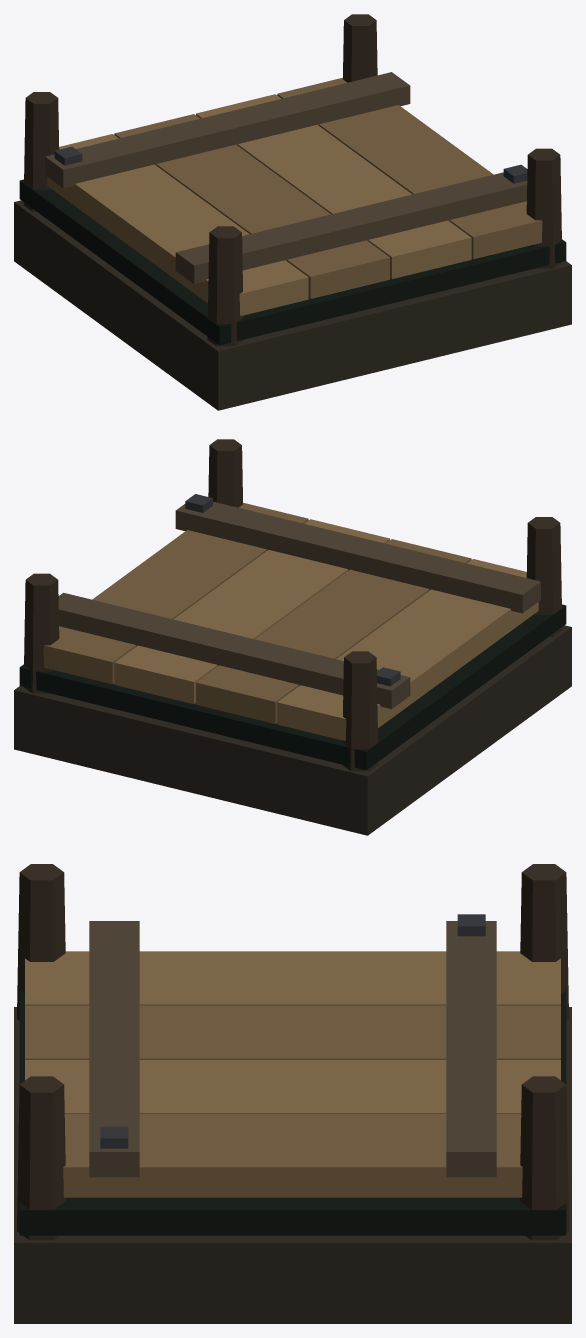
The model's file is obj_bridge.glb.
3 renders of one model, top to bottom at view 1: azimuth 30°, elevation 25°; view 2: azimuth 150°, elevation 25°; view 3: azimuth 270°, elevation 25°, orthographic. The views are drawn at different scales.
Parts seen in each view (by area): view 1: obj_bridge; view 2: obj_bridge; view 3: obj_bridge.
Boxes of the visible parts, x1=… form: obj_bridge: x1=14, y1=14, x2=571, y2=410; obj_bridge: x1=14, y1=439, x2=571, y2=835; obj_bridge: x1=14, y1=864, x2=571, y2=1323.
Bounding box in the file's own units: 1 × 0.45 × 1.
